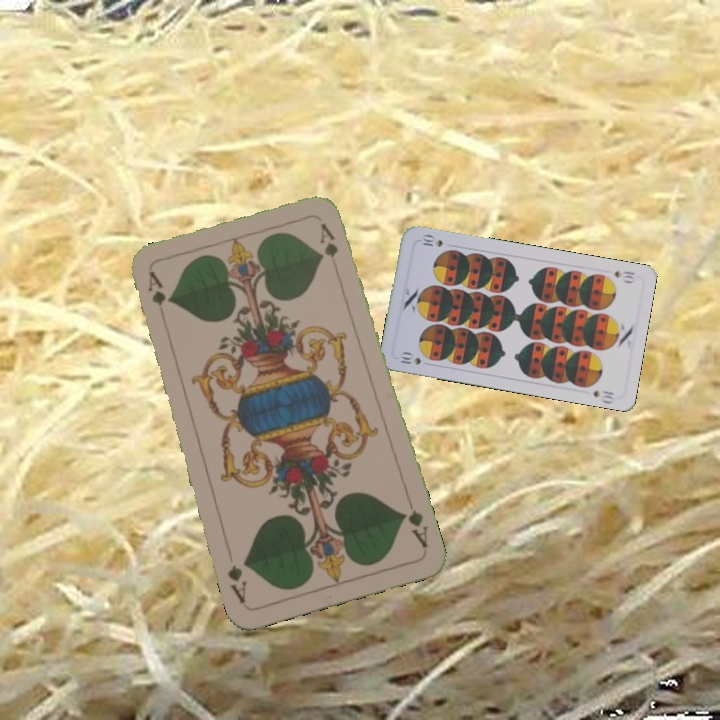GA: (398, 495, 431, 551), (143, 268, 169, 327)
S10: (396, 348, 423, 367), (610, 267, 637, 286)
